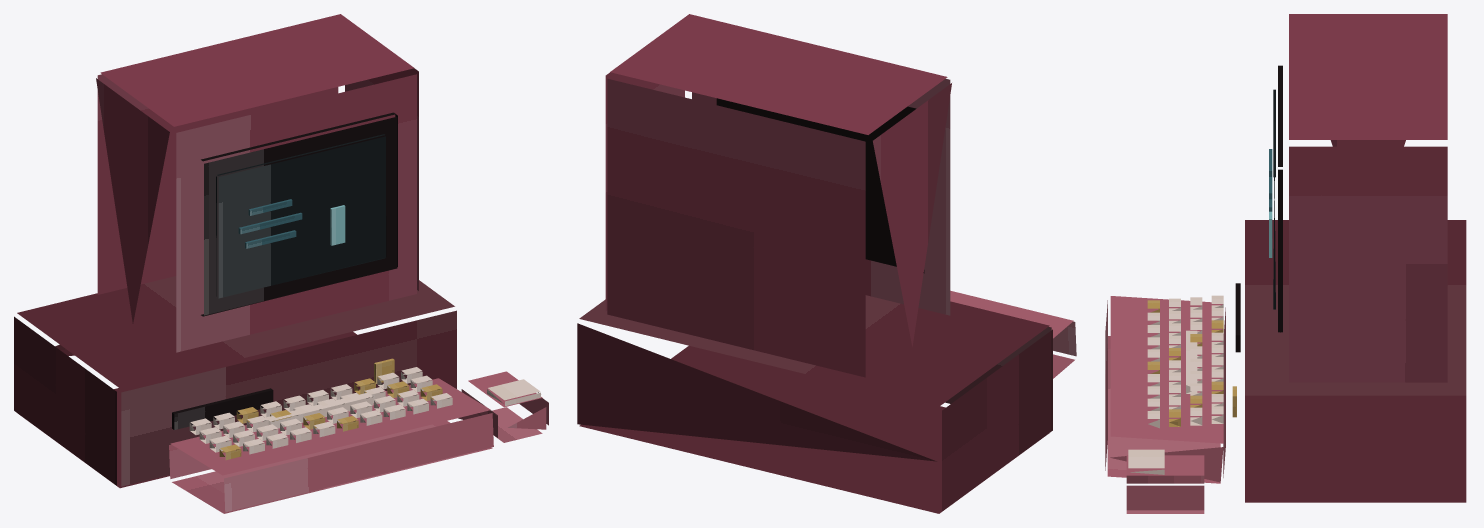
The model's file is retro_computer_desktop_burgundy.glb.
The picture shows the model from 3 angles, left to right: view 1: azimuth 30°, elevation 25°; view 2: azimuth 150°, elevation 25°; view 3: azimuth 270°, elevation 25°; orthographic projection. The views are drawn at different scales.
Visible parts, largest first — view 1: MonitorShell, DesktopCase, MonitorGlow, KeyboardBody, MonitorFace, Mouse, FloppySlot, SpaceBar, MouseButton, ScreenGlyph_4; view 2: MonitorShell, DesktopCase, MonitorFace, KeyboardBody; view 3: MonitorShell, DesktopCase, KeyboardBody, Mouse, MonitorFace, MouseButton, MonitorGlow, SpaceBar, FloppySlot.
Part boxes in pixels (<box>): MonitorShell: <box>96,14,418,352</box>; DesktopCase: <box>14,276,456,488</box>; MonitorGlow: <box>216,134,386,298</box>; KeyboardBody: <box>169,378,493,513</box>; MonitorFace: <box>201,112,397,316</box>; Mouse: <box>461,371,548,442</box>; FloppySlot: <box>172,388,273,429</box>; SpaceBar: <box>265,393,373,428</box>; MouseButton: <box>487,379,540,406</box>; ScreenGlyph_4: <box>330,205,345,245</box>; MonitorShell: <box>605,14,951,377</box>; DesktopCase: <box>577,295,1052,513</box>; MonitorFace: <box>716,98,924,273</box>; KeyboardBody: <box>950,290,1076,378</box>; MonitorShell: <box>1289,14,1447,382</box>; DesktopCase: <box>1245,220,1466,502</box>; KeyboardBody: <box>1105,296,1225,483</box>; Mouse: <box>1126,455,1204,513</box>; MonitorFace: <box>1278,65,1282,332</box>; MouseButton: <box>1128,449,1164,474</box>; MonitorGlow: <box>1273,89,1275,309</box>; SpaceBar: <box>1186,330,1197,393</box>; FloppySlot: <box>1235,283,1240,352</box>.
Size of the model in its own units: 1.1 by 0.92 by 0.8629.
Materials: 1 (1 with a texture image).
